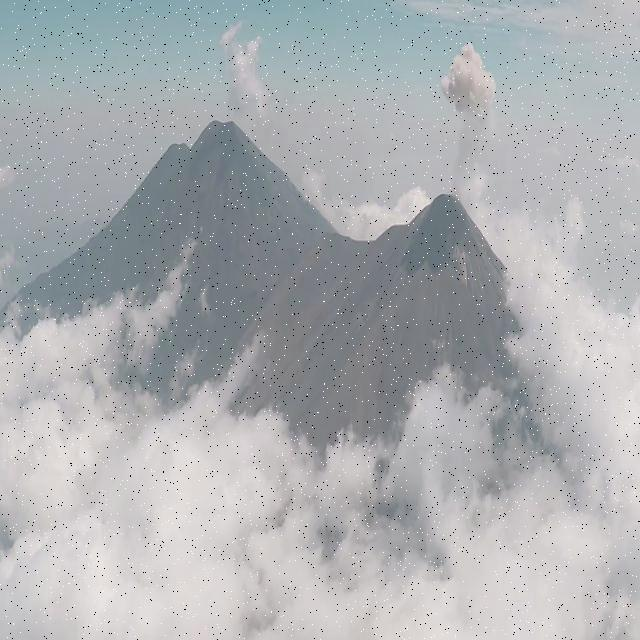Plume: (440, 39, 498, 124)
Summit: (372, 186, 508, 280)
